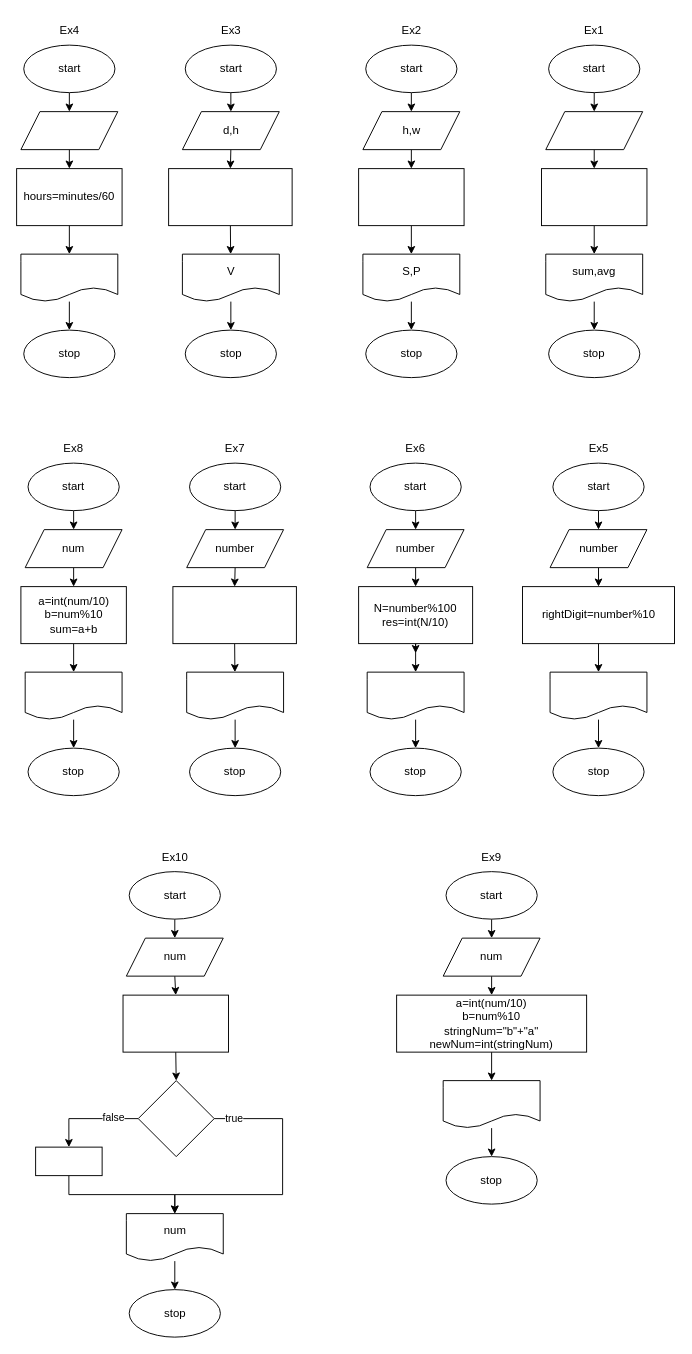
The diagram is 692 pixels wide and 1354 high, and some of its shapes have lost their labels. The shapes that lost their labels are listed below. From the top down, each one's centre as x and y in pixels, then its label:
the point at 69,130: minutes
the point at 594,130: a,b,c
the point at 230,197: V=h*3.14*d/2*d/2
the point at 411,197: S=h*w P=2*(h+w)
the point at 594,197: sum=a+b+c avg=sum/3
the point at 69,277: hours
the point at 234,615: result=int(number/100)
the point at 73,695: sum
the point at 235,695: result
the point at 415,695: res
the point at 598,695: rightDigit
the point at 175,1023: num=int(num) num++
the point at 175,1118: num%2=0
the point at 491,1104: newNum
the point at 68,1161: num++
